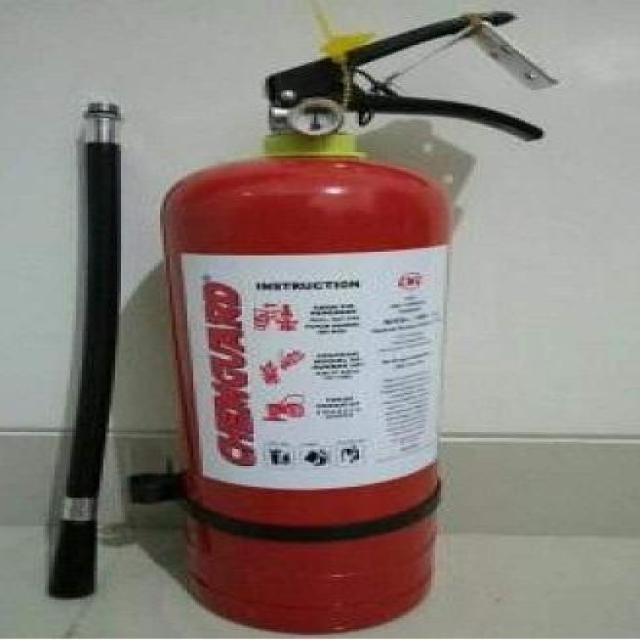fire_extinguisher: (147, 7, 561, 637)
